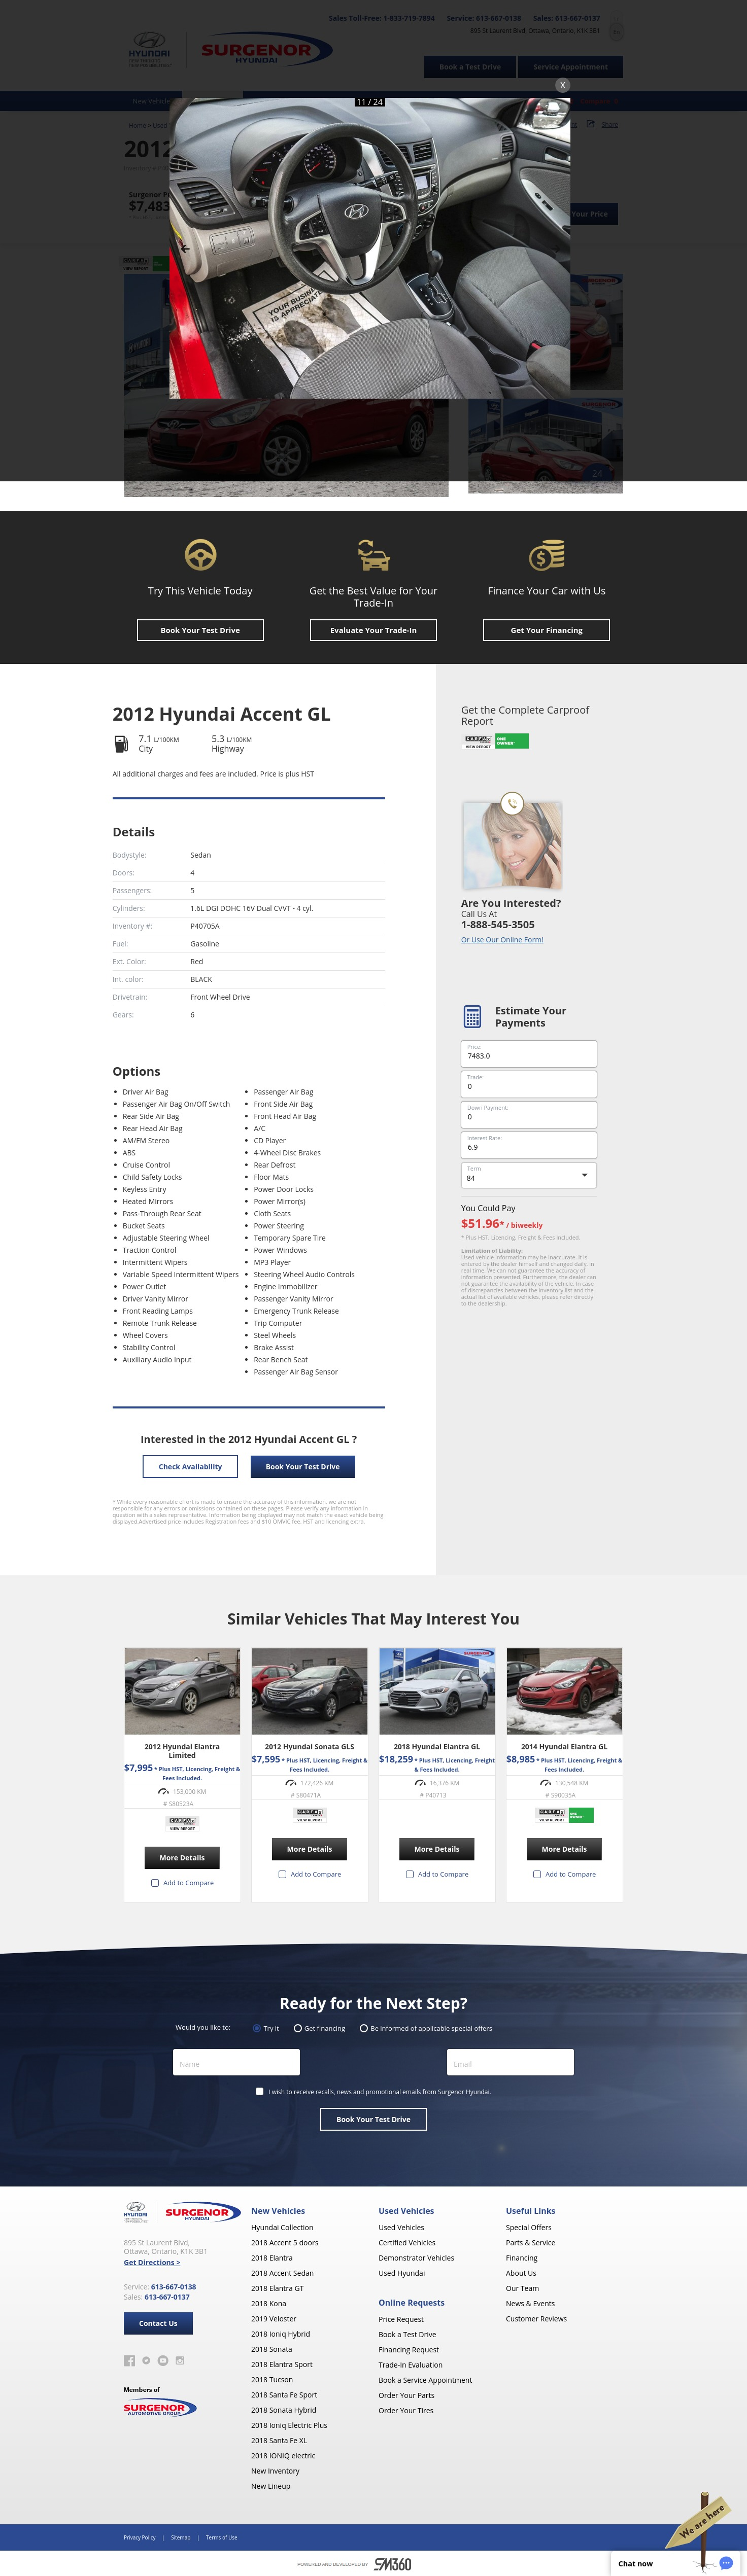car: (581, 463, 612, 491)
